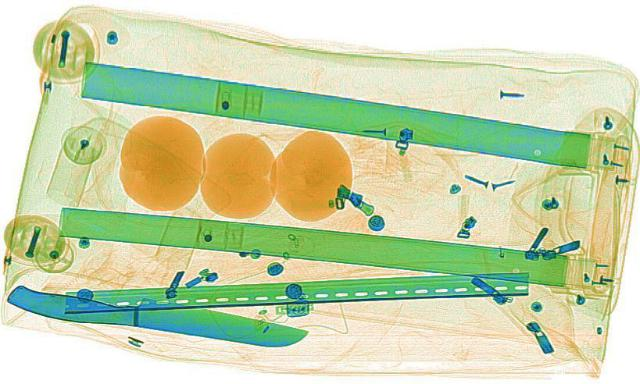Knife: (0, 279, 313, 349)
